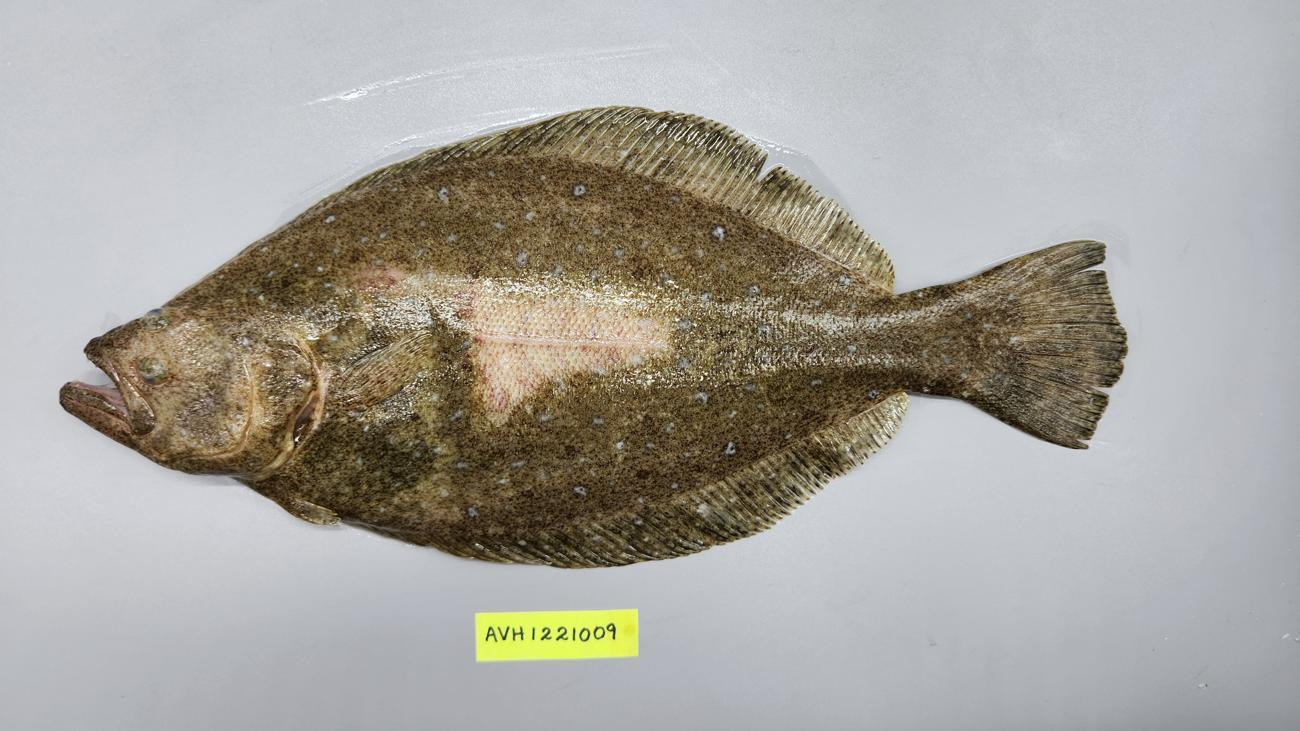VIDYH: (332, 260, 675, 427)
VIDYU: (355, 262, 672, 425)
VIOUY: (51, 104, 1127, 570)
